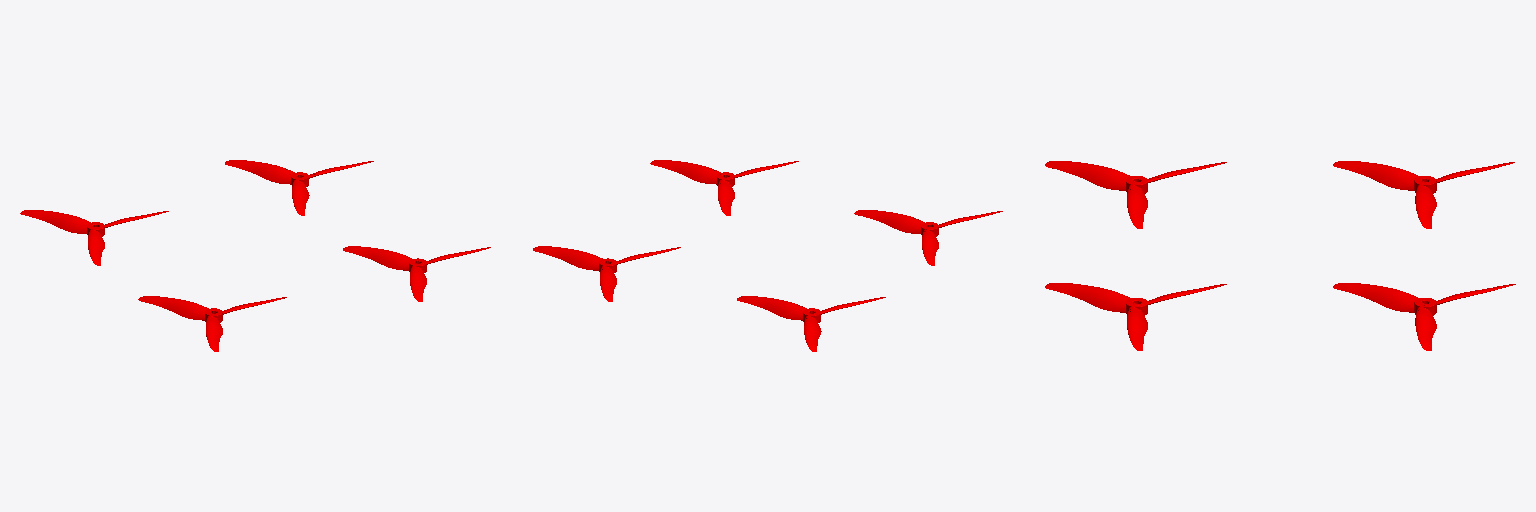
The robot description file, URDF, robot "5_in_drone":
<?xml version="1.0" encoding="utf-8"?>
<robot name="5_in_drone">
  <link name="base_link">
    <visual>
      <geometry>
        <mesh filename="package://meshes/base_link.dae"/>
      </geometry>
    </visual>
    <collision>
      <geometry>
        <mesh filename="package://meshes/base_link.dae"/>
      </geometry>
    </collision>
    <inertial>
      <origin rpy="0 0 0" xyz="0 0 0"/>
      <mass value="0.5"/>
      <inertia ixx="0.003" ixy="0.0" ixz="0.0" iyy="0.003" iyz="0.0" izz="0.006"/>
    </inertial>
  </link>

  <link name="rotor_0">
    <visual>
      <geometry>
        <mesh filename="package://meshes/prop.dae"/>
      </geometry>
    </visual>
    <collision>
      <geometry>
        <mesh filename="package://meshes/prop.dae"/>
      </geometry>
    </collision>
  </link>

  <link name="rotor_1">
    <visual>
      <geometry>
        <mesh filename="package://meshes/prop.dae"/>
      </geometry>
    </visual>
    <collision>
      <geometry>
        <mesh filename="package://meshes/prop.dae"/>
      </geometry>
    </collision>
  </link>

  <link name="rotor_2">
    <visual>
      <geometry>
        <mesh filename="package://meshes/prop.dae"/>
      </geometry>
    </visual>
    <collision>
      <geometry>
        <mesh filename="package://meshes/prop.dae"/>
      </geometry>
    </collision>
  </link>

  <link name="rotor_3">
    <visual>
      <geometry>
        <mesh filename="package://meshes/prop.dae"/>
      </geometry>
    </visual>
    <collision>
      <geometry>
        <mesh filename="package://meshes/prop.dae"/>
      </geometry>
    </collision>
  </link>

  <joint name="rotor_0_joint" type="revolute">
    <parent link="base_link"/>
    <child link="rotor_0"/>
    <origin xyz="0.0883 0.0883 0.015" rpy="0 0 0"/>
    <axis xyz="0 0 1"/>
    <limit lower="-1e6" upper="1e6" effort="80.0" velocity="6000.0"/>
    <dynamics damping="0.0" friction="0.0"/>
  </joint>

  <joint name="rotor_1_joint" type="revolute">
    <parent link="base_link"/>
    <child link="rotor_1"/>
    <origin xyz="0.0883 -0.0883 0.015" rpy="0 0 0"/>
    <axis xyz="0 0 1"/>
    <limit lower="-1e6" upper="1e6" effort="80.0" velocity="6000.0"/>
    <dynamics damping="0.0" friction="0.0"/>
  </joint>

  <joint name="rotor_2_joint" type="revolute">
    <parent link="base_link"/>
    <child link="rotor_2"/>
    <origin xyz="-0.0883 0.0883 0.015" rpy="0 0 0"/>
    <axis xyz="0 0 1"/>
    <limit lower="-1e6" upper="1e6" effort="80.0" velocity="6000.0"/>
    <dynamics damping="0.0" friction="0.0"/>
  </joint>

  <joint name="rotor_3_joint" type="revolute">
    <parent link="base_link"/>
    <child link="rotor_3"/>
    <origin xyz="-0.0883 -0.0883 0.015" rpy="0 0 0"/>
    <axis xyz="0 0 1"/>
    <limit lower="-1e6" upper="1e6" effort="80.0" velocity="6000.0"/>
    <dynamics damping="0.0" friction="0.0"/>
  </joint>

</robot>

--- Facts derived from the render (not from the file) ---
3 views of the same robot in one strip: view 1: azimuth 30°, elevation 25°; view 2: azimuth 150°, elevation 25°; view 3: azimuth 270°, elevation 25° (orthographic).
Model 5_in_drone with 5 links and 4 joints (4 revolute), rooted at base_link, posed every joint at zero.
Links seen in each view (by area): view 1: rotor_3, rotor_0, rotor_1, rotor_2; view 2: rotor_2, rotor_0, rotor_1, rotor_3; view 3: rotor_2, rotor_0, rotor_3, rotor_1.
Link boxes in pixels (x1,y1,x2,y2): rotor_3: (138,296,286,351); rotor_0: (225,160,373,215); rotor_1: (343,246,490,301); rotor_2: (20,210,168,265); rotor_2: (737,296,885,351); rotor_0: (533,246,680,301); rotor_1: (650,160,798,215); rotor_3: (854,210,1002,265); rotor_2: (1333,161,1514,228); rotor_0: (1333,283,1515,350); rotor_3: (1045,161,1226,228); rotor_1: (1045,283,1226,350).
Size in the robot's own frame: 0.2751 by 0.2883 by 0.0082 metres.
Meshes: 2 distinct files referenced, 4 mesh visuals loaded (1 Collada DAE); not drawn: 1 (reference not matched to a file when rendering).
